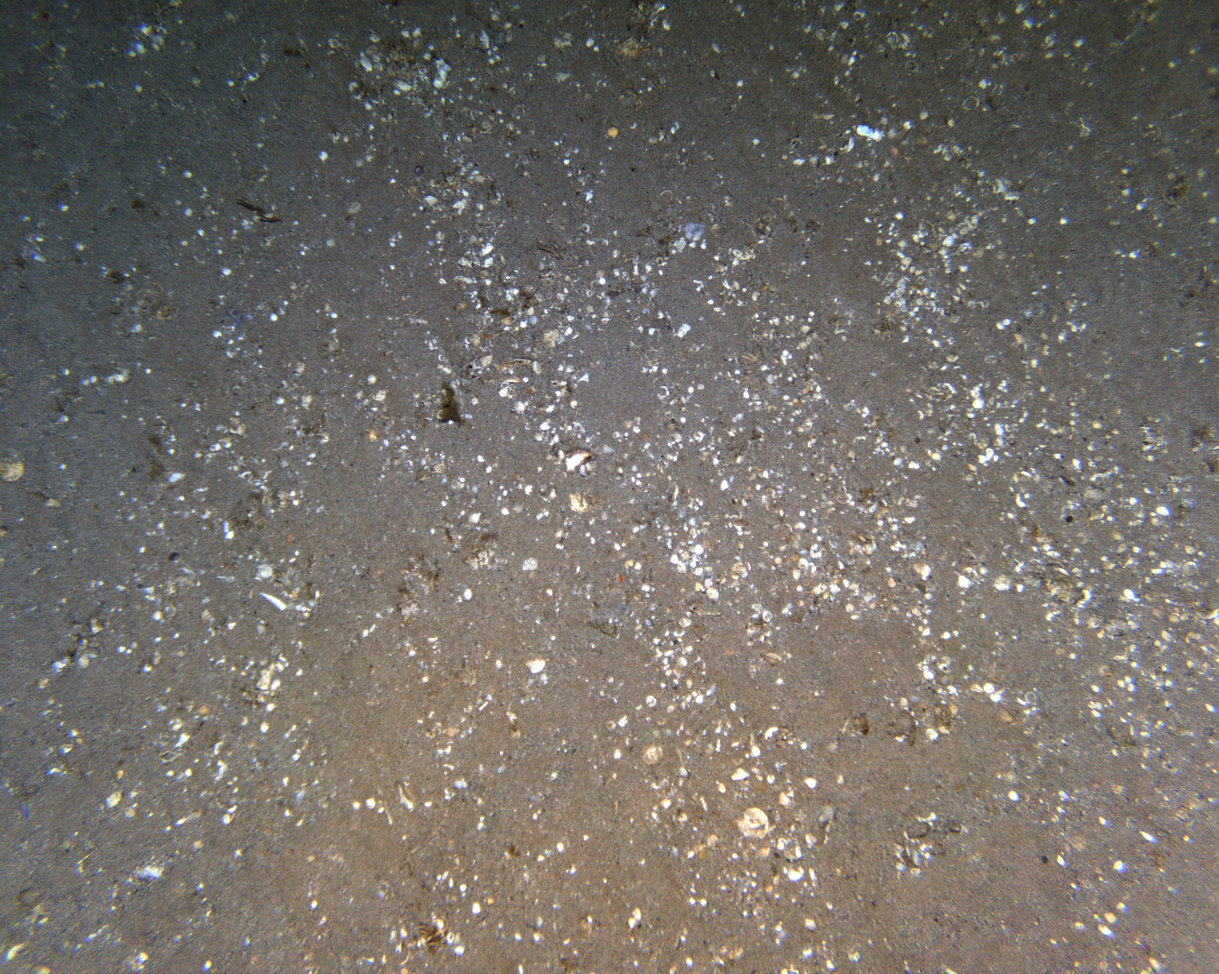Brachionichthyidae: (231, 193, 284, 224)
